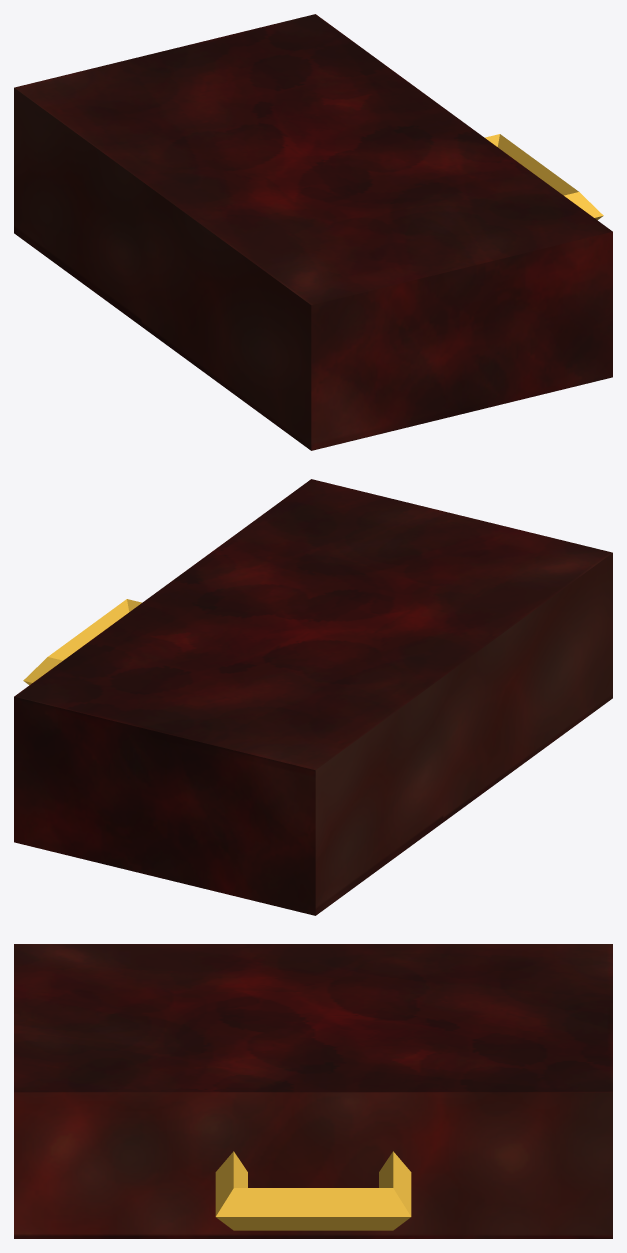
File: Briefcase.fbx
The picture shows the model from 3 angles, top to bottom: view 1: azimuth 30°, elevation 25°; view 2: azimuth 150°, elevation 25°; view 3: azimuth 270°, elevation 25°; orthographic projection.
Visible parts, largest first — view 1: Suitcase; view 2: Suitcase; view 3: Suitcase.
Boxes of the visible parts, left/top/right/bottom form: Suitcase: left=14, top=14, right=612, bottom=450; Suitcase: left=14, top=479, right=612, bottom=915; Suitcase: left=14, top=944, right=612, bottom=1238.
Size of the model in its own units: 341 by 260 by 92.28.
Materials: 1 (1 with a texture image).
